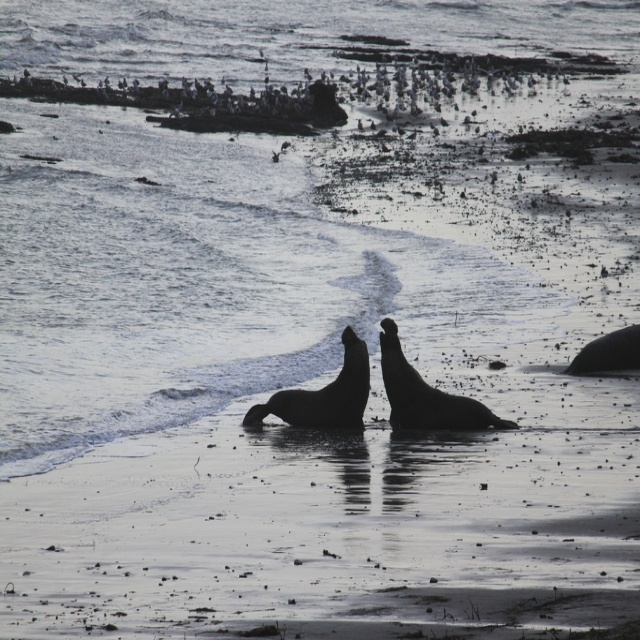Harbor seal: (380, 313, 517, 428), (242, 329, 372, 432)
